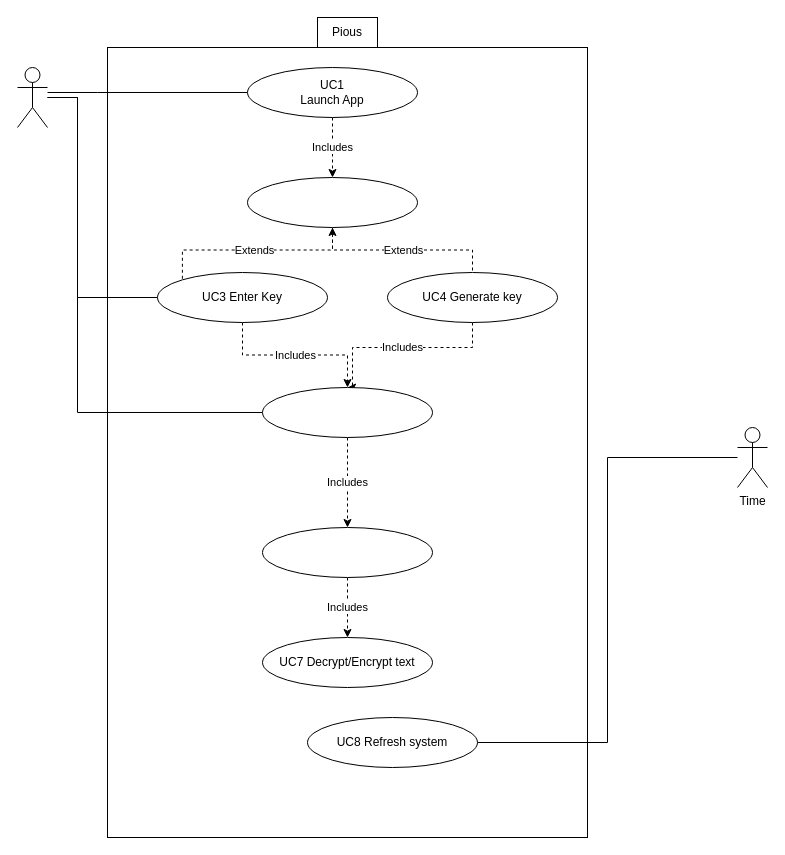
Some shapes in this 785 by 855 pixel diagram are drawn without their labels. The shapes that lost their labels are listed below. From the top down, each one's centre as x and y in pixels, then its label:
the point at 32,97: User
the point at 332,202: UC2 Ask for encryption key
the point at 347,412: UC5 Select Encryption type
the point at 347,552: UC6 Enter Encrypted/Decrypted text
